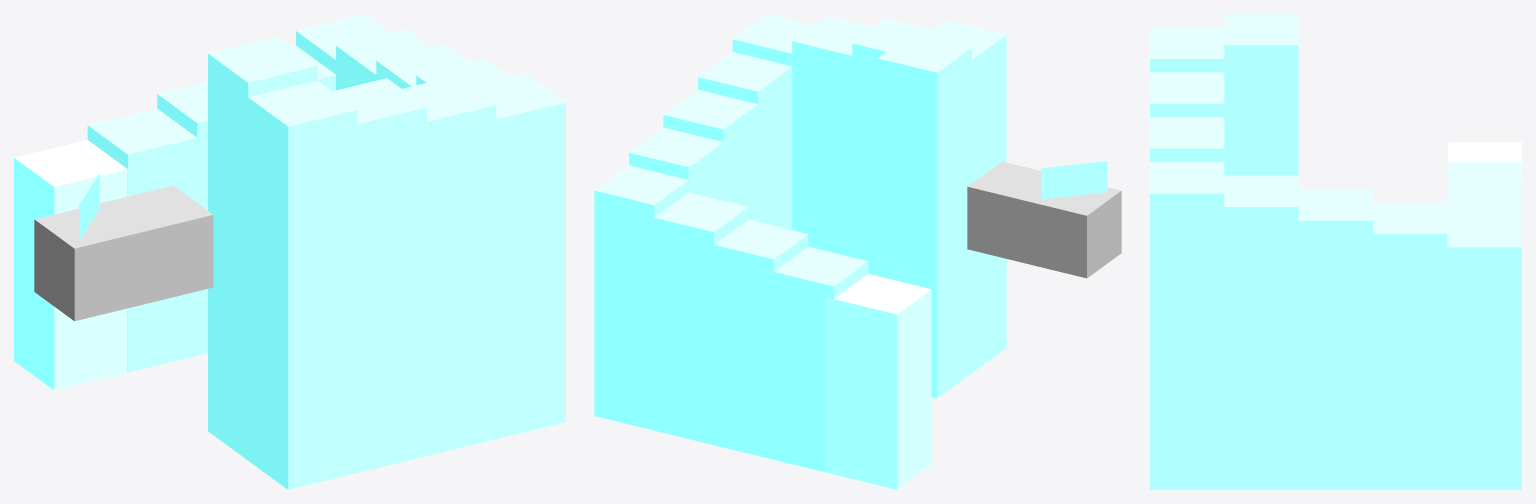
The model's file is level2.1.gltf.
The picture shows the model from 3 angles, left to right: view 1: azimuth 30°, elevation 25°; view 2: azimuth 150°, elevation 25°; view 3: azimuth 270°, elevation 25°; orthographic projection. The views are drawn at different scales.
Parts seen in each view (by area): view 1: Box (×4), Box_2, Box_3, Box_4, Box_1, Box_11, Box_10, Box_7, Box_8, Box_6, Box_5; view 2: Box (×4), Box_1, Box_8, Box_9, Box_10, Box_3, Box_11, Box_5, Box_2, Box_6, Box_7, Box_4; view 3: Box_4, Box_5, Box_6, Box_7, Box_8, Box_1, Box (×2), Box_2, Box_3, Box_9, Box_10, Box_11.
Part boxes in pixels (x1,y1,x2,y2): Box (×4): [14, 80, 357, 489]; Box_2: [333, 78, 426, 472]; Box_3: [402, 75, 496, 455]; Box_4: [471, 73, 565, 438]; Box_1: [208, 36, 317, 460]; Box_11: [87, 108, 197, 372]; Box_10: [157, 81, 207, 355]; Box_7: [336, 29, 430, 90]; Box_8: [296, 14, 390, 74]; Box_6: [376, 43, 470, 88]; Box_5: [416, 58, 510, 86]; Box (×4): [825, 20, 1121, 489]; Box_1: [877, 33, 971, 398]; Box_8: [594, 165, 688, 430]; Box_9: [654, 192, 748, 444]; Box_10: [714, 219, 808, 459]; Box_3: [792, 16, 873, 257]; Box_11: [774, 246, 868, 472]; Box_5: [698, 52, 792, 229]; Box_2: [852, 18, 933, 275]; Box_6: [663, 89, 757, 221]; Box_7: [629, 127, 723, 200]; Box_4: [732, 14, 813, 66]; Box_4: [1150, 162, 1224, 489]; Box_5: [1224, 175, 1298, 489]; Box_6: [1298, 189, 1372, 489]; Box_7: [1373, 202, 1447, 489]; Box_8: [1447, 216, 1521, 489]; Box_1: [1224, 14, 1298, 175]; Box (×2): [1150, 27, 1521, 368]; Box_2: [1150, 72, 1224, 117]; Box_3: [1150, 117, 1224, 161]; Box_9: [1447, 198, 1521, 215]; Box_10: [1447, 180, 1521, 197]; Box_11: [1447, 162, 1521, 179].
Bounding box in the file's own units: 6.5 × 5.2 × 5.
